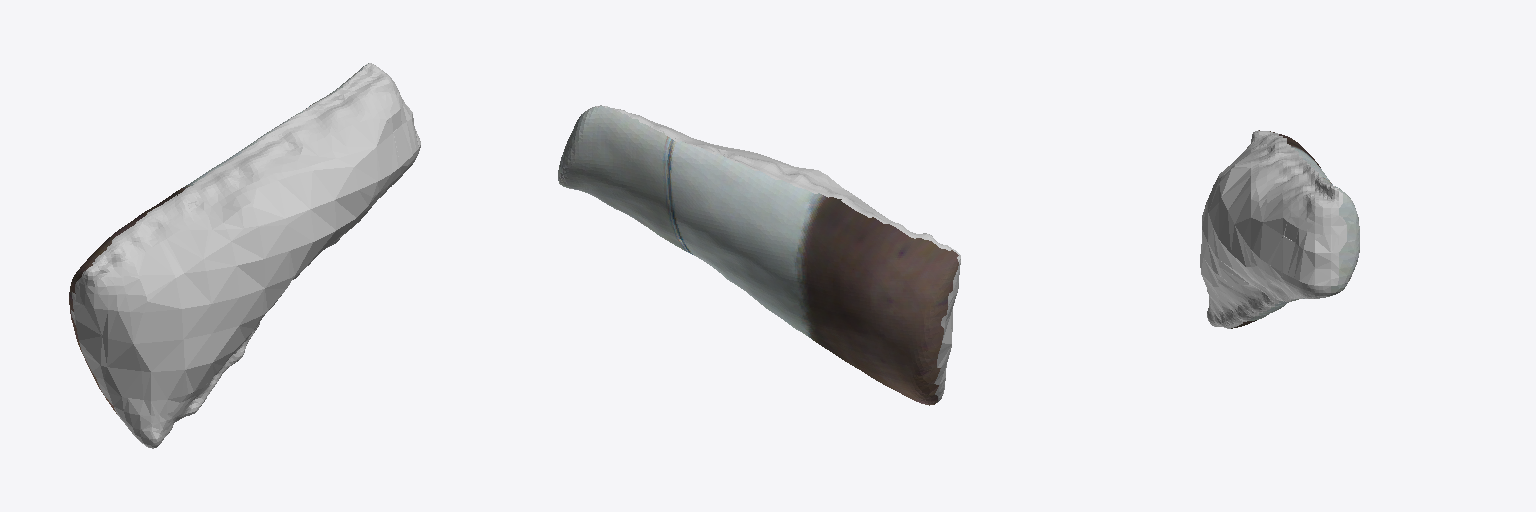
The picture shows the model from 3 angles: view 1: azimuth 30°, elevation 25°; view 2: azimuth 150°, elevation 25°; view 3: azimuth 270°, elevation 25°; orthographic projection.
Size of the model in its own units: 0.2187 by 0.1559 by 0.0827.
3 materials, 2 textured.